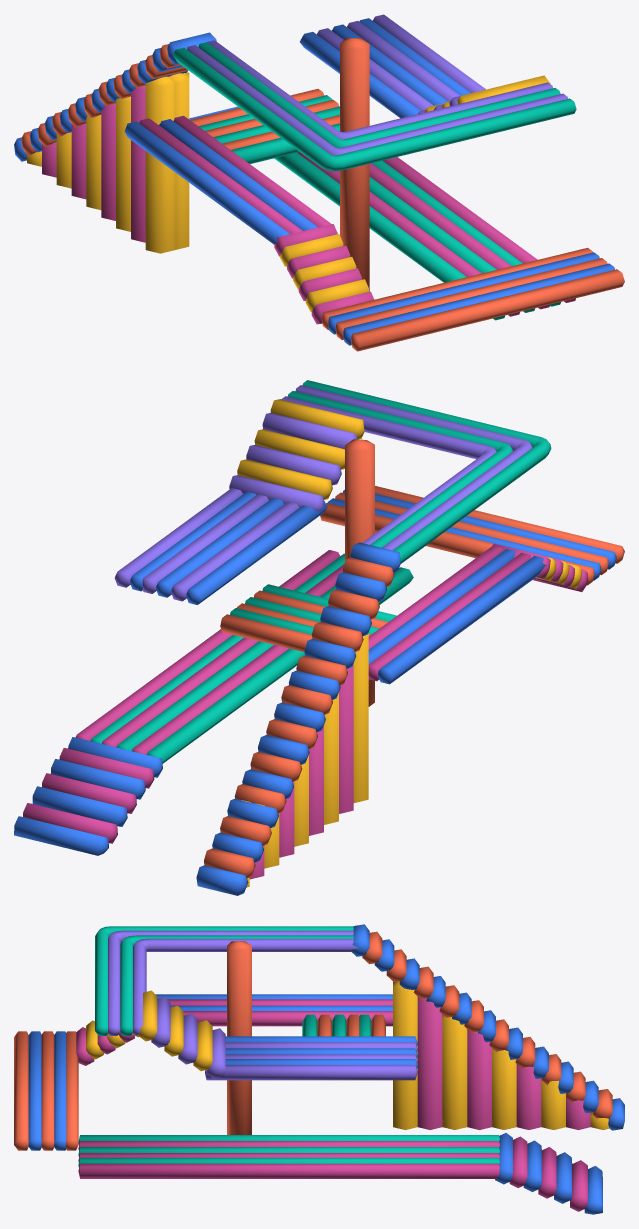
File: course02.glb
3 views of the same model, one above another, from view 1: azimuth 30°, elevation 25°; view 2: azimuth 150°, elevation 25°; view 3: azimuth 270°, elevation 25° (orthographic). The views are drawn at different scales.
Parts seen in each view (by area): view 1: Cylinder.504, Cylinder.462, Cylinder.479, Cylinder.515, Cylinder.521, Cylinder.511, Cylinder.526, Cylinder.510, Cylinder.512, Cylinder.516, Cylinder.518, Cylinder.514 (+31 smaller); view 2: Cylinder.504, Cylinder.462, Cylinder.526, Cylinder.521, Cylinder.512, Cylinder.510, Cylinder.511, Cylinder.479, Cylinder.523, Cylinder.508, Cylinder.525, Cylinder.524 (+54 smaller); view 3: Cylinder.505, Cylinder.523, Cylinder.512, Cylinder.479, Cylinder.461, Cylinder.522, Cylinder.510, Cylinder.462, Cylinder.524, Cylinder.527, Cylinder.526, Cylinder.511 (+49 smaller).
Boxes of the visible parts, <box> form: Cylinder.504: <box>27,76,175,253</box>; Cylinder.462: <box>173,48,576,171</box>; Cylinder.479: <box>340,37,369,291</box>; Cylinder.515: <box>351,269,624,351</box>; Cylinder.521: <box>124,121,289,244</box>; Cylinder.511: <box>198,42,560,147</box>; Cylinder.526: <box>274,153,504,320</box>; Cylinder.510: <box>187,45,567,155</box>; Cylinder.512: <box>207,40,552,139</box>; Cylinder.516: <box>343,263,614,345</box>; Cylinder.518: <box>159,119,317,230</box>; Cylinder.514: <box>328,252,599,334</box>; Cylinder.504: <box>242,633,368,887</box>; Cylinder.462: <box>302,380,551,563</box>; Cylinder.526: <box>147,567,413,763</box>; Cylinder.521: <box>378,556,546,684</box>; Cylinder.512: <box>281,396,496,544</box>; Cylinder.510: <box>295,385,532,550</box>; Cylinder.511: <box>287,391,513,547</box>; Cylinder.479: <box>345,439,374,706</box>; Cylinder.523: <box>75,550,339,740</box>; Cylinder.508: <box>186,501,327,604</box>; Cylinder.525: <box>102,564,344,747</box>; Cylinder.524: <box>116,585,335,750</box>; Cylinder.505: <box>393,981,609,1129</box>; Cylinder.523: <box>78,1163,499,1178</box>; Cylinder.512: <box>133,938,358,1035</box>; Cylinder.479: <box>227,941,251,1134</box>; Cylinder.461: <box>205,1065,417,1080</box>; Cylinder.522: <box>78,1157,499,1167</box>; Cylinder.510: <box>108,930,353,1035</box>; Cylinder.462: <box>95,926,353,1035</box>; Cylinder.524: <box>78,1147,499,1156</box>; Cylinder.527: <box>78,1141,499,1150</box>; Cylinder.526: <box>78,1135,499,1144</box>; Cylinder.511: <box>120,935,353,1035</box>.
Size of what is drawn, in the model's own units: 12.79 by 11.93 by 29.78.
Materials: 1 (1 with a texture image).
